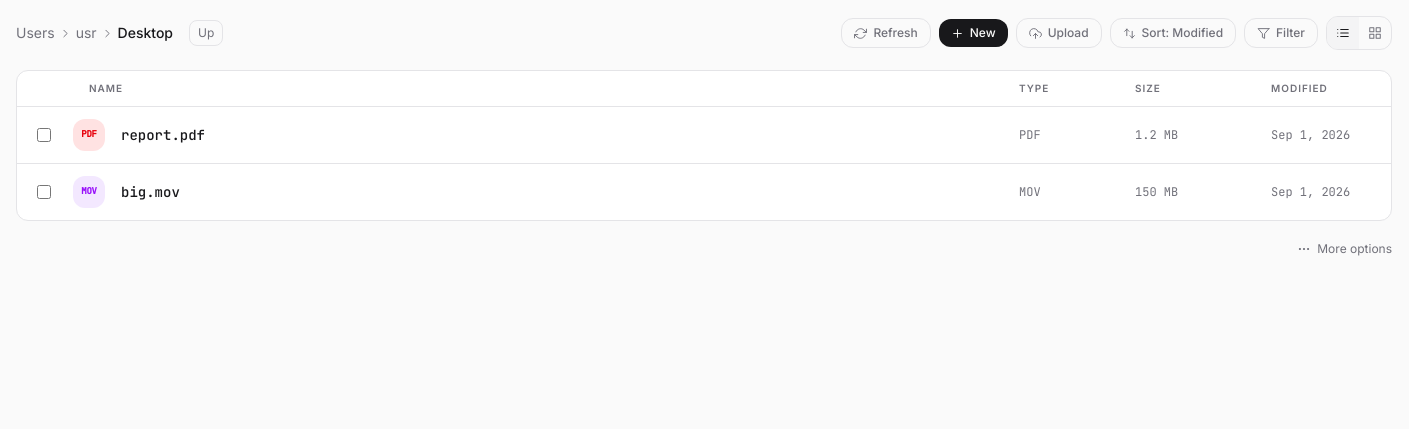
Test: Files › filters the listing by large size (≥ 100 MB)
The image size is (1409, 429).
Step 1. Click the button "Filter" → (1281, 33), box [1244,18,1318,48]
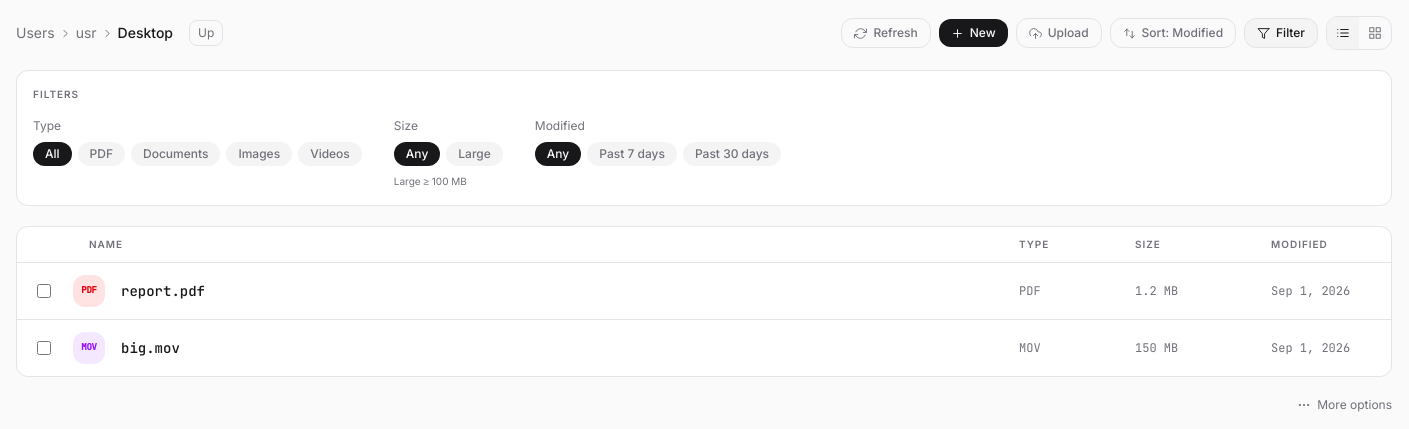
Step 2. Click the button "Large" → (475, 154), box [446,142,503,166]
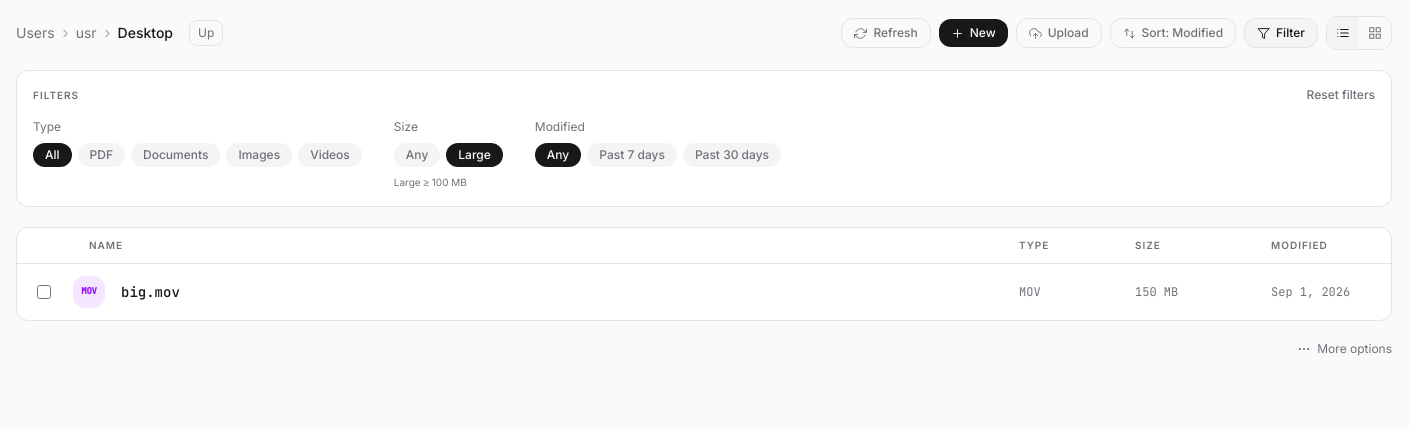
Expected: the text "big.mov" is shown, [121,282,180,302]
Expected: the text "report.pdf" is gone
